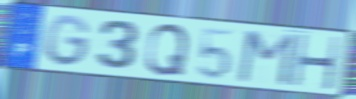3: (95, 19, 142, 72)
5: (196, 26, 235, 81)
G: (44, 13, 94, 69)
H: (290, 33, 342, 92)
M: (235, 29, 299, 88)
Q: (144, 22, 192, 77)
